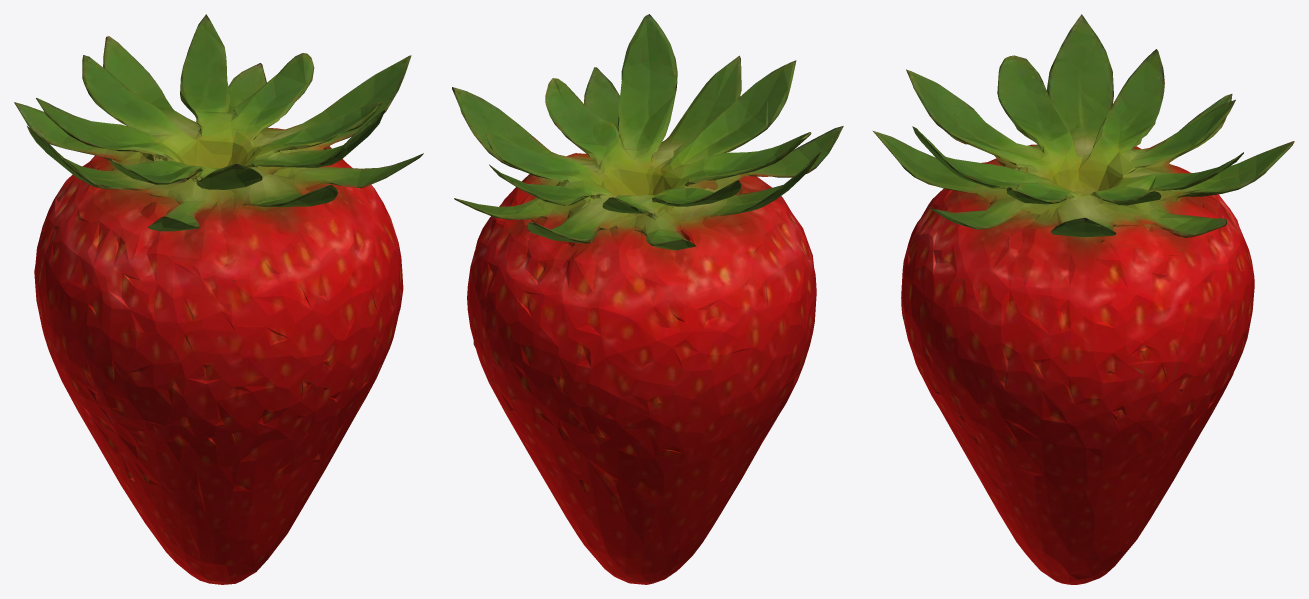
File: strawberry.glb
3 renders of one model, left to right at view 1: azimuth 30°, elevation 25°; view 2: azimuth 150°, elevation 25°; view 3: azimuth 270°, elevation 25°, orthographic. The views are drawn at different scales.
Parts seen in each view (by area): view 1: geometry_0; view 2: geometry_0; view 3: geometry_0.
Boxes of the visible parts, x1,y1,x2,y2 form: geometry_0: (14,14,423,584); geometry_0: (452,14,843,584); geometry_0: (873,14,1294,584).
Size of the model in its own units: 0.7889 by 0.9994 by 0.7817.
1 material, 1 textured.
